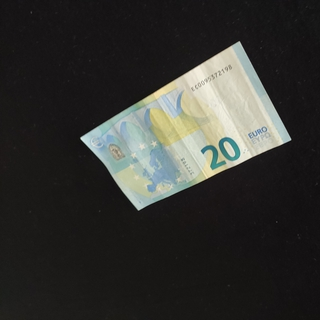20EUROBack: (79, 40, 291, 211)
